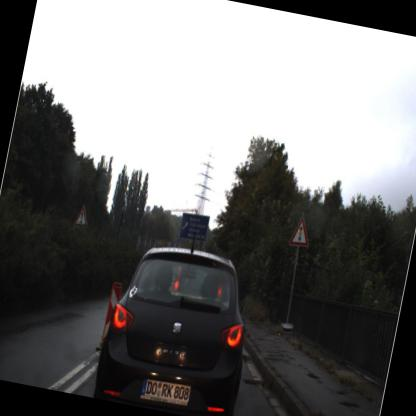danger: (282, 208, 316, 253)
